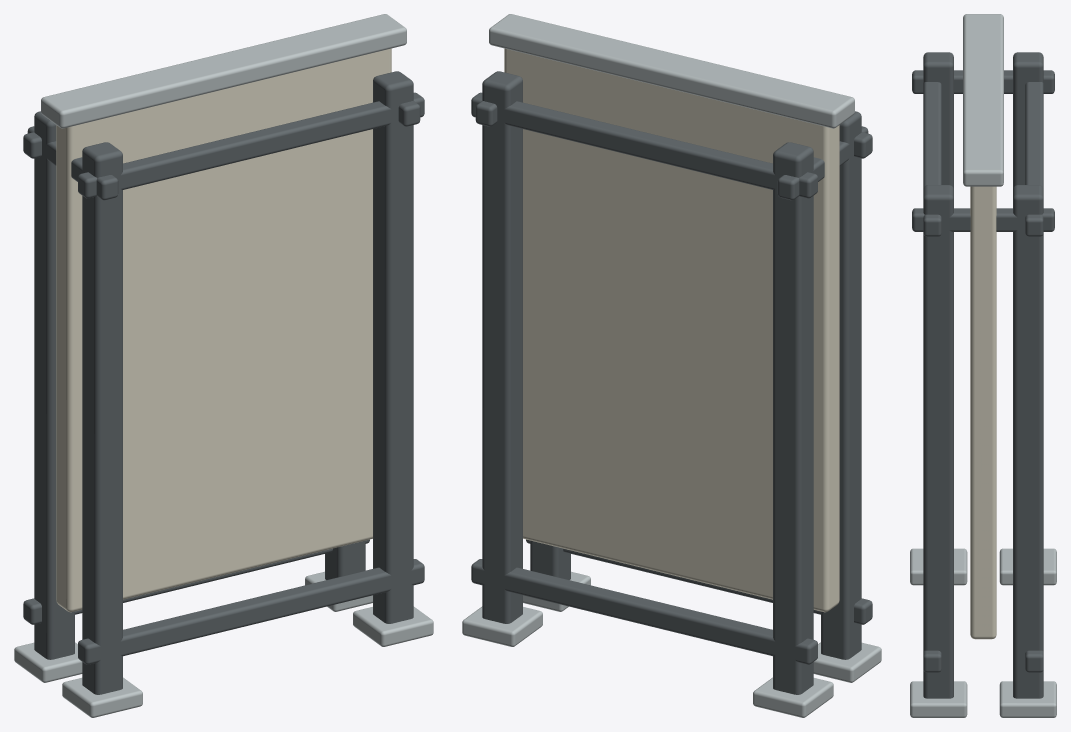
Rendered from glassblowing-studio-and-gallery-heat-shield-26fcf08f__29604.glb.
3 renders of one model, left to right at view 1: azimuth 30°, elevation 25°; view 2: azimuth 150°, elevation 25°; view 3: azimuth 270°, elevation 25°, orthographic. The views are drawn at different scales.
Parts seen in each view (by area): view 1: heat-shield; view 2: heat-shield; view 3: heat-shield.
Part boxes in pixels (x1,y1,x2,y2): heat-shield: [14, 14, 433, 717]; heat-shield: [462, 14, 881, 717]; heat-shield: [910, 14, 1056, 717].
Bounding box in the file's own units: 0.9201 × 1.49 × 0.36.
